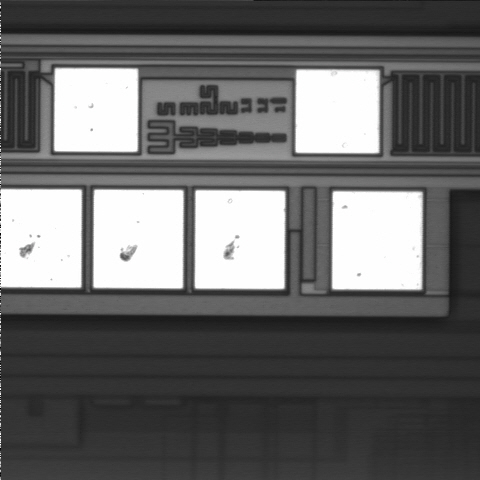pad: (195, 190, 285, 289), (93, 190, 183, 288), (332, 191, 422, 289), (54, 68, 138, 152), (296, 70, 379, 153)
